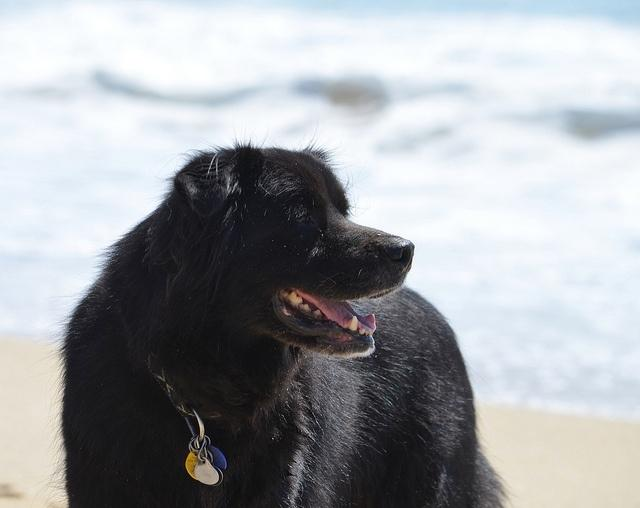dog: (62, 145, 502, 507)
